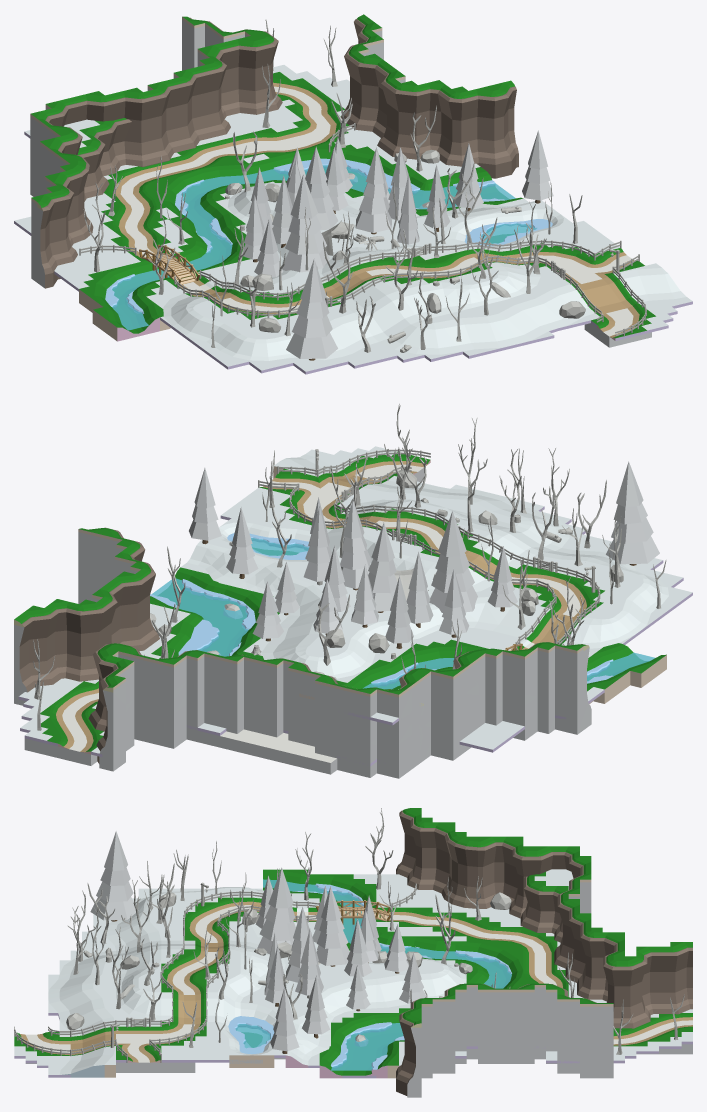
The model's file is Winter_v2.glb.
3 views of the same model, one above another, from view 1: azimuth 30°, elevation 25°; view 2: azimuth 150°, elevation 25°; view 3: azimuth 270°, elevation 25° (orthographic). The views are drawn at different scales.
Visible parts, largest first — view 1: Path_Terrain_Dirt_Flat_1x1__Snow Dirt__1__0__6, Grass_Hill_Grade_Transition_Curve_Outer_4x5__Snow Grass__0__ (×2), Grass_Hill_Gentle_Esse_4x5__Snow Grass__2__1__1, Grass_Flat_1x1__Snow Grass__2__0__79, Grass_Hill_Gentle_Overlapping_Gentle_4x4__Snow Grass__0__0__, Grass_Hill_Gentle_Esse_4x5__Snow Grass__2__1__2, Grass_Hill_Gentle_Esse_4x5__Snow Grass__2__0__3, Grass_Hill_Gentle_Curve_Outer_4x4__Snow Grass__0__0__2, Grass_Hill_Sharp_Curve_Outer_4x4__Snow Grass__2__0__2, Grass_Hill_Grade_Transition_Straight_Front_4x4__Snow Grass__, Grass_Hill_Sharp_Curve_Inner_6x6__Grass__0__0__3, Grass_Flat_1x1__Snow Grass__2__0__58 (+49 smaller); view 2: Grass_Hill_Grade_Transition_Curve_Inner_6x7__Snow Grass__2__ (×2), Grass_Hill_Grade_Transition_Curve_Outer_4x5__Snow Grass__0__ (×2), Path_Terrain_Dirt_Flat_1x1__Hidden__0__0__6, Grass_Hill_Sharp_Curve_Inner_6x6__Grass__0__0__4, Path_Terrain_Dirt_Flat_1x1__Snow Dirt__1__0__6, Basic_Curve_Inner_2x2_Wide_Base__Hidden__1__1__2, Basic_Curve_Inner_2x2_Narrow_Base__Hidden__1__1__1, Basic_Esse_Base_2x2__Hidden__1__0__5, Basic_Curve_Inner_2x2_Wide_Base__Hidden__1__1__1, Grass_Hill_Grade_Transition_Straight_Front_4x4__Snow Grass__, Grass_Hill_Sharp_Curve_Outer_4x4__Snow Grass__2__0__1, Grass_Flat_1x1__Snow Grass__2__0__73 (+49 smaller); view 3: Grass_Hill_Grade_Transition_Curve_Outer_4x5__Snow Grass__0__ (×2), Grass_Flat_1x1__Snow Grass__2__0__79, Grass_Hill_Sharp_Curve_Inner_6x6__Grass__0__0__5, Grass_Hill_Grade_Transition_Curve_Inner_6x7__Snow Grass__2__, Grass_Hill_Sharp_Curve_Inner_6x6__Grass__0__0__1, Grass_Hill_Grade_Transition_Straight_Rear_3x4__Snow Grass__2 (×2), Grass_Hill_Sharp_Curve_Inner_6x6__Grass__0__0__3, Grass_Hill_Gentle_Esse_4x5__Snow Grass__2__0__3, Grass_Hill_Gentle_Esse_4x5__Snow Grass__2__0__4, Grass_Hill_Gentle_Esse_4x5__Snow Grass__2__0__2, Path_Terrain_Dirt_Flat_1x1__Snow Dirt__1__0__4, Grass_Hill_Gentle_Esse_4x5__Snow Grass__2__1__2 (+49 smaller).
Boxes of the visible parts, left/top/right/bottom form: Path_Terrain_Dirt_Flat_1x1__Snow Dirt__1__0__6: left=121, top=101, right=330, bottom=191; Grass_Hill_Grade_Transition_Curve_Outer_4x5__Snow Grass__0__ (×2): left=163, top=266, right=540, bottom=325; Grass_Hill_Gentle_Esse_4x5__Snow Grass__2__1__1: left=438, top=312, right=511, bottom=351; Grass_Flat_1x1__Snow Grass__2__0__79: left=14, top=216, right=140, bottom=274; Grass_Hill_Gentle_Overlapping_Gentle_4x4__Snow Grass__0__0__: left=354, top=291, right=419, bottom=341; Grass_Hill_Gentle_Esse_4x5__Snow Grass__2__1__2: left=614, top=263, right=686, bottom=302; Grass_Hill_Gentle_Esse_4x5__Snow Grass__2__0__3: left=492, top=299, right=558, bottom=342; Grass_Hill_Gentle_Curve_Outer_4x4__Snow Grass__0__0__2: left=379, top=318, right=462, bottom=354; Grass_Hill_Sharp_Curve_Outer_4x4__Snow Grass__2__0__2: left=220, top=332, right=286, bottom=360; Grass_Hill_Grade_Transition_Straight_Front_4x4__Snow Grass__: left=418, top=278, right=483, bottom=314; Grass_Hill_Sharp_Curve_Inner_6x6__Grass__0__0__3: left=79, top=264, right=141, bottom=312; Grass_Flat_1x1__Snow Grass__2__0__58: left=197, top=106, right=302, bottom=145; Grass_Hill_Grade_Transition_Curve_Inner_6x7__Snow Grass__2__ (×2): left=274, top=576, right=511, bottom=633; Grass_Hill_Grade_Transition_Curve_Outer_4x5__Snow Grass__0__ (×2): left=261, top=612, right=634, bottom=663; Path_Terrain_Dirt_Flat_1x1__Hidden__0__0__6: left=186, top=728, right=337, bottom=774; Grass_Hill_Sharp_Curve_Inner_6x6__Grass__0__0__4: left=391, top=639, right=488, bottom=669; Path_Terrain_Dirt_Flat_1x1__Snow Dirt__1__0__6: left=76, top=693, right=336, bottom=762; Basic_Curve_Inner_2x2_Wide_Base__Hidden__1__1__2: left=151, top=705, right=186, bottom=748; Basic_Curve_Inner_2x2_Narrow_Base__Hidden__1__1__1: left=377, top=735, right=411, bottom=778; Basic_Esse_Base_2x2__Hidden__1__0__5: left=555, top=693, right=591, bottom=734; Basic_Curve_Inner_2x2_Wide_Base__Hidden__1__1__1: left=431, top=717, right=465, bottom=760; Grass_Hill_Grade_Transition_Straight_Front_4x4__Snow Grass__: left=229, top=555, right=292, bottom=596; Grass_Hill_Sharp_Curve_Outer_4x4__Snow Grass__2__0__1: left=304, top=649, right=365, bottom=678; Grass_Flat_1x1__Snow Grass__2__0__73: left=221, top=497, right=289, bottom=526; Grass_Hill_Grade_Transition_Curve_Outer_4x5__Snow Grass__0__ (×2): left=116, top=969, right=466, bottom=1020; Grass_Flat_1x1__Snow Grass__2__0__79: left=376, top=884, right=491, bottom=907; Grass_Hill_Sharp_Curve_Inner_6x6__Grass__0__0__5: left=455, top=941, right=523, bottom=979; Grass_Hill_Grade_Transition_Curve_Inner_6x7__Snow Grass__2__: left=308, top=978, right=376, bottom=1022; Grass_Hill_Sharp_Curve_Inner_6x6__Grass__0__0__1: left=331, top=1013, right=398, bottom=1050; Grass_Hill_Grade_Transition_Straight_Rear_3x4__Snow Grass__2 (×2): left=240, top=954, right=330, bottom=1060; Grass_Hill_Sharp_Curve_Inner_6x6__Grass__0__0__3: left=308, top=874, right=376, bottom=906; Grass_Hill_Gentle_Esse_4x5__Snow Grass__2__0__3: left=48, top=988, right=104, bottom=1017; Grass_Hill_Gentle_Esse_4x5__Snow Grass__2__0__4: left=106, top=921, right=161, bottom=950; Grass_Hill_Gentle_Esse_4x5__Snow Grass__2__0__2: left=376, top=974, right=421, bottom=1008; Path_Terrain_Dirt_Flat_1x1__Snow Dirt__1__0__4: left=116, top=1024, right=194, bottom=1062; Grass_Hill_Gentle_Esse_4x5__Snow Grass__2__1__2: left=59, top=1046, right=115, bottom=1074.
Size of the model in its own units: 45 by 11.02 by 60.02.
